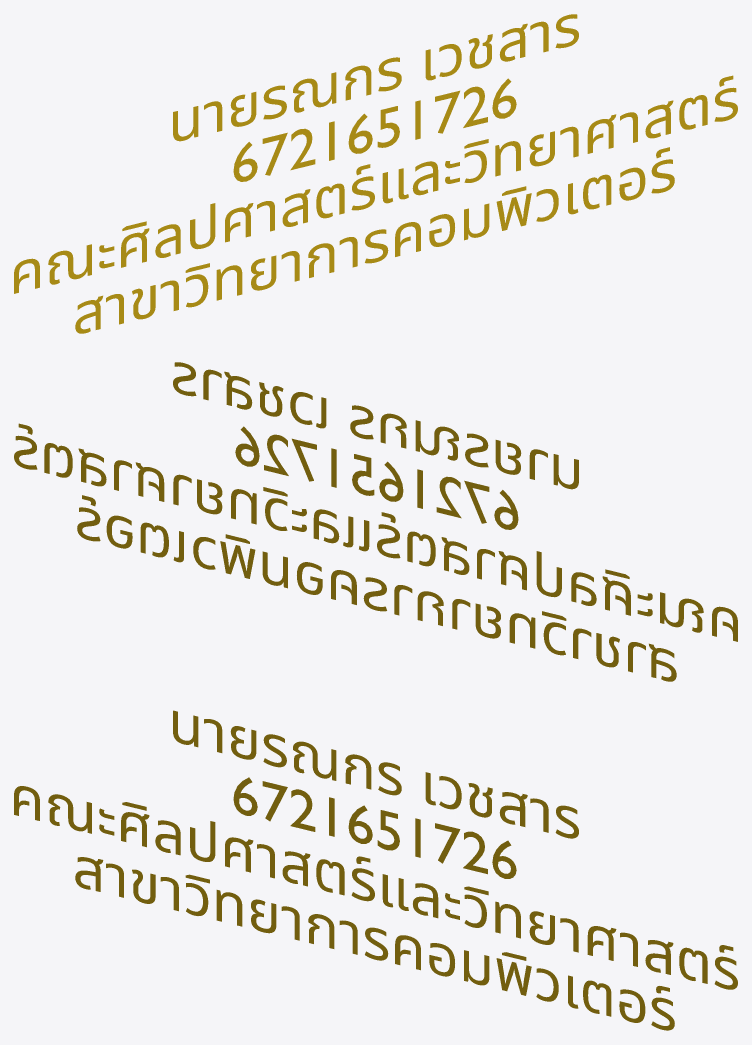
The model's file is NewT.glb.
3 renders of one model, top to bottom at view 1: azimuth 30°, elevation 25°; view 2: azimuth 150°, elevation 25°; view 3: azimuth 330°, elevation 25°, orthographic.
Parts seen in each view (by area): view 1: Text; view 2: Text; view 3: Text.
Boxes of the visible parts, x1,y1,x2,y2 form: Text: (14, 14, 737, 333); Text: (14, 362, 737, 681); Text: (14, 710, 737, 1030).
Bounding box in the file's own units: 1.31 × 0.3499 × 2.95e-08.
